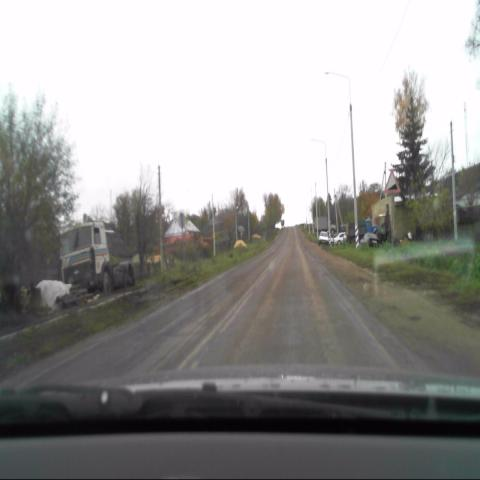1_14: (385, 169, 400, 194)
